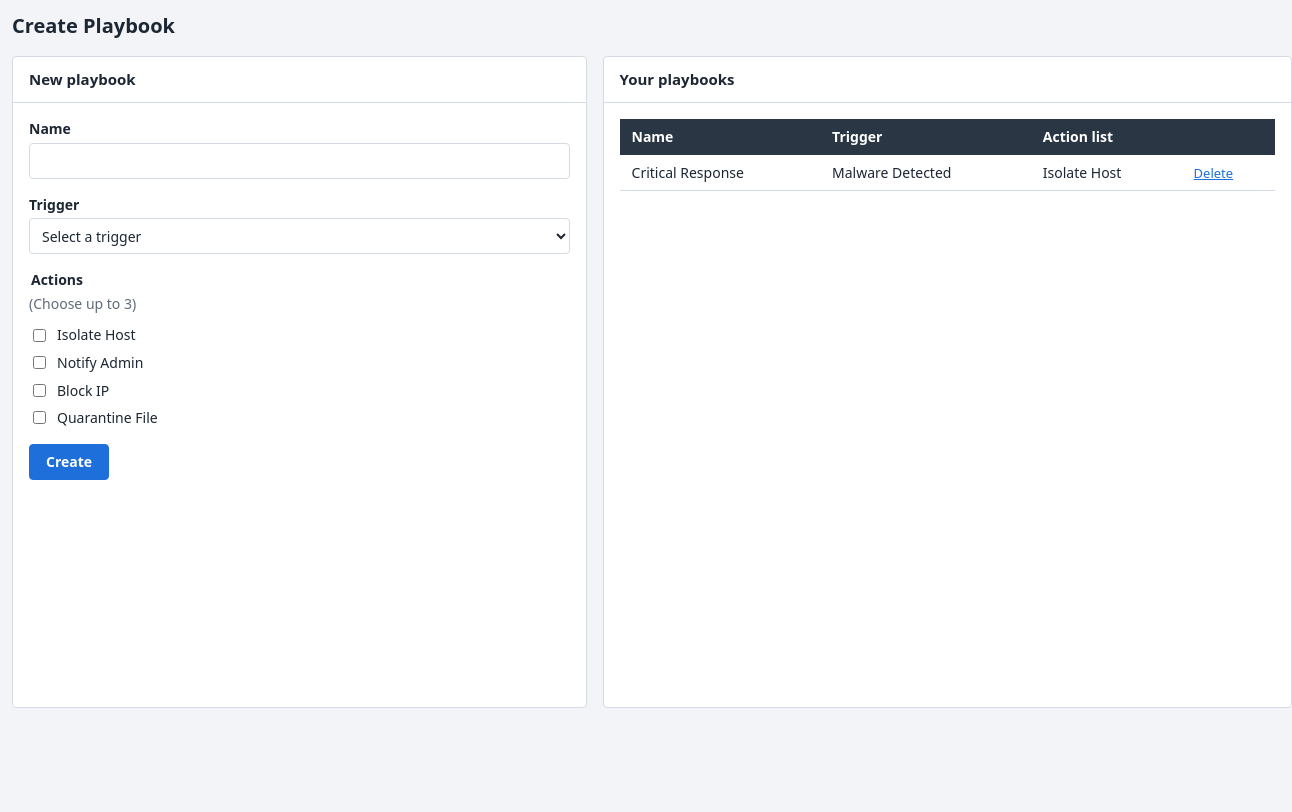
Test: CreatePlaybookPage › requires at least one action
Expected: the checkbox labelled "Isolate Host" is shown, [33, 329, 46, 342]
Type "Contain" into the field labelled "Name" at [299, 161], box [29, 143, 570, 179]
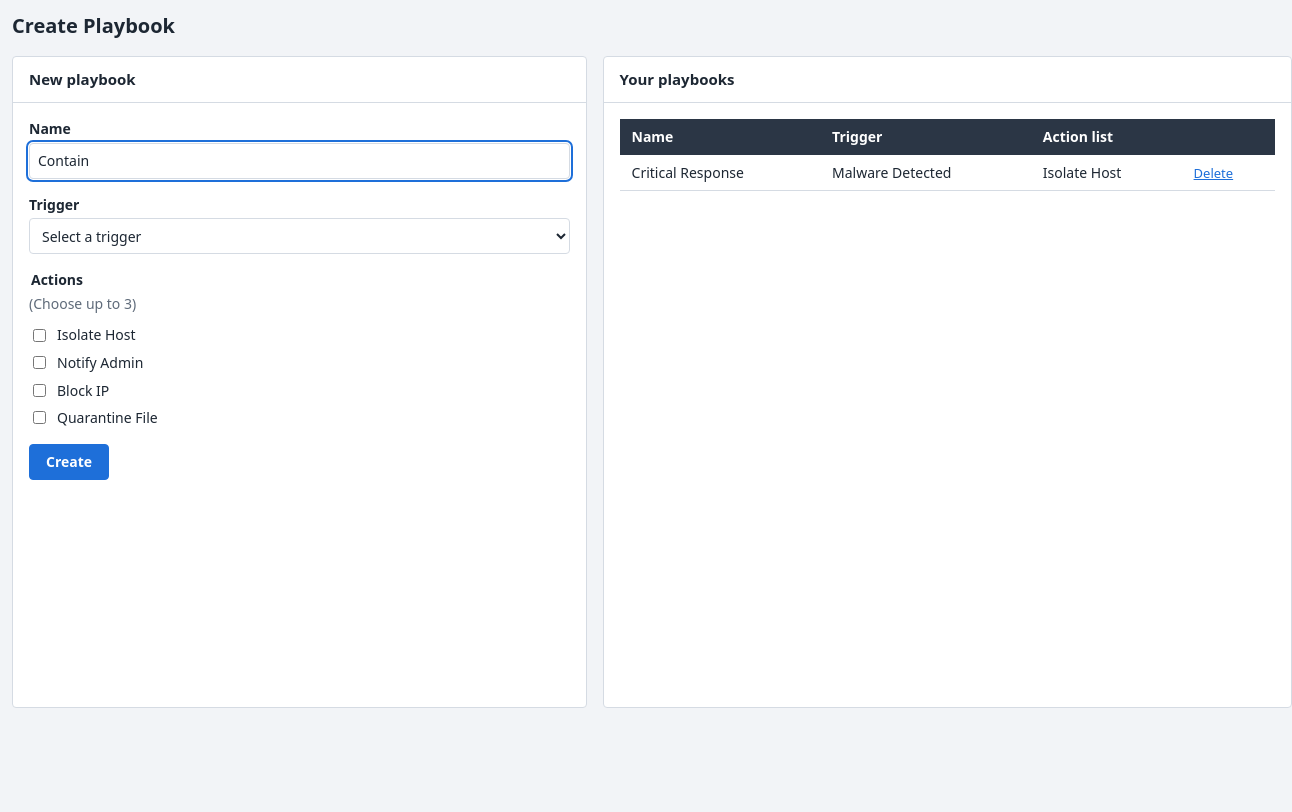
Select "Malware Detected" in the dropdown labelled "Trigger" at [299, 236], box [29, 218, 570, 254]
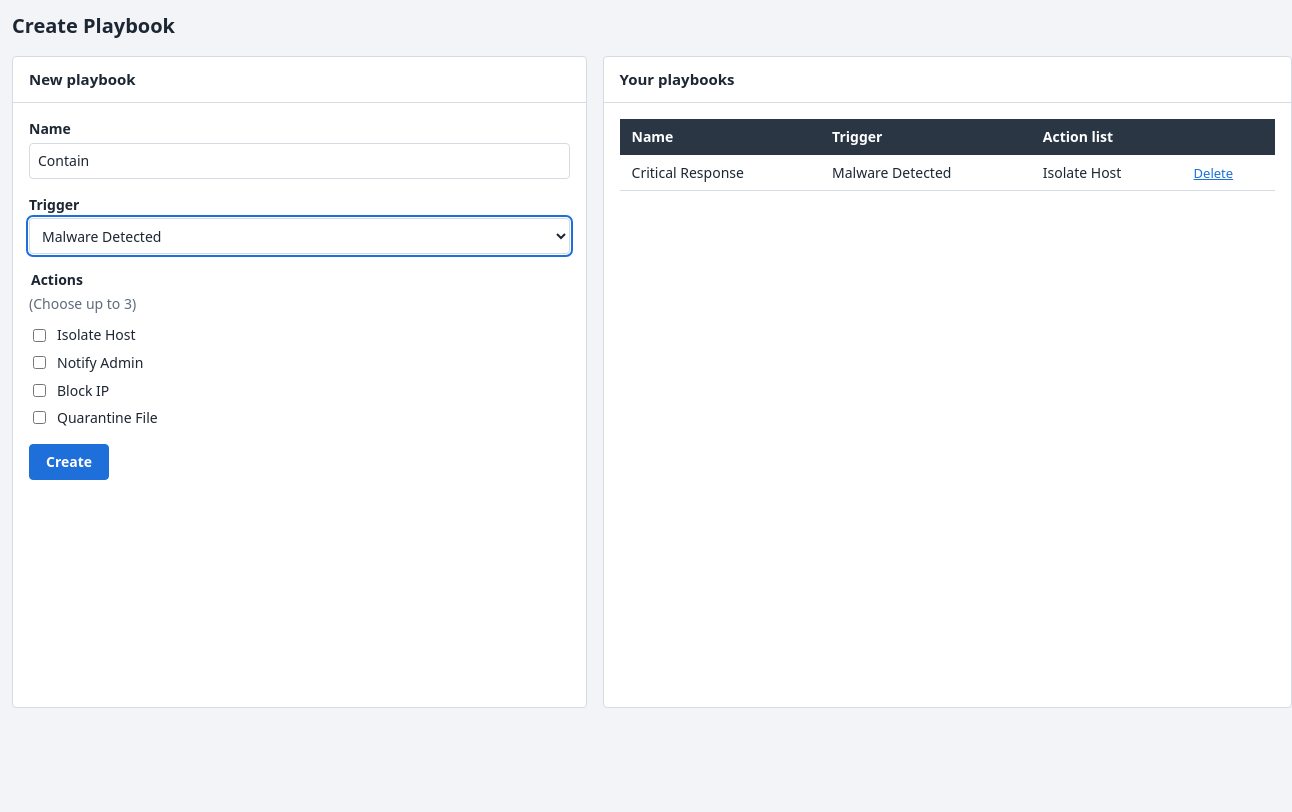
Click the button "Create" at [69, 462], box [29, 444, 109, 480]
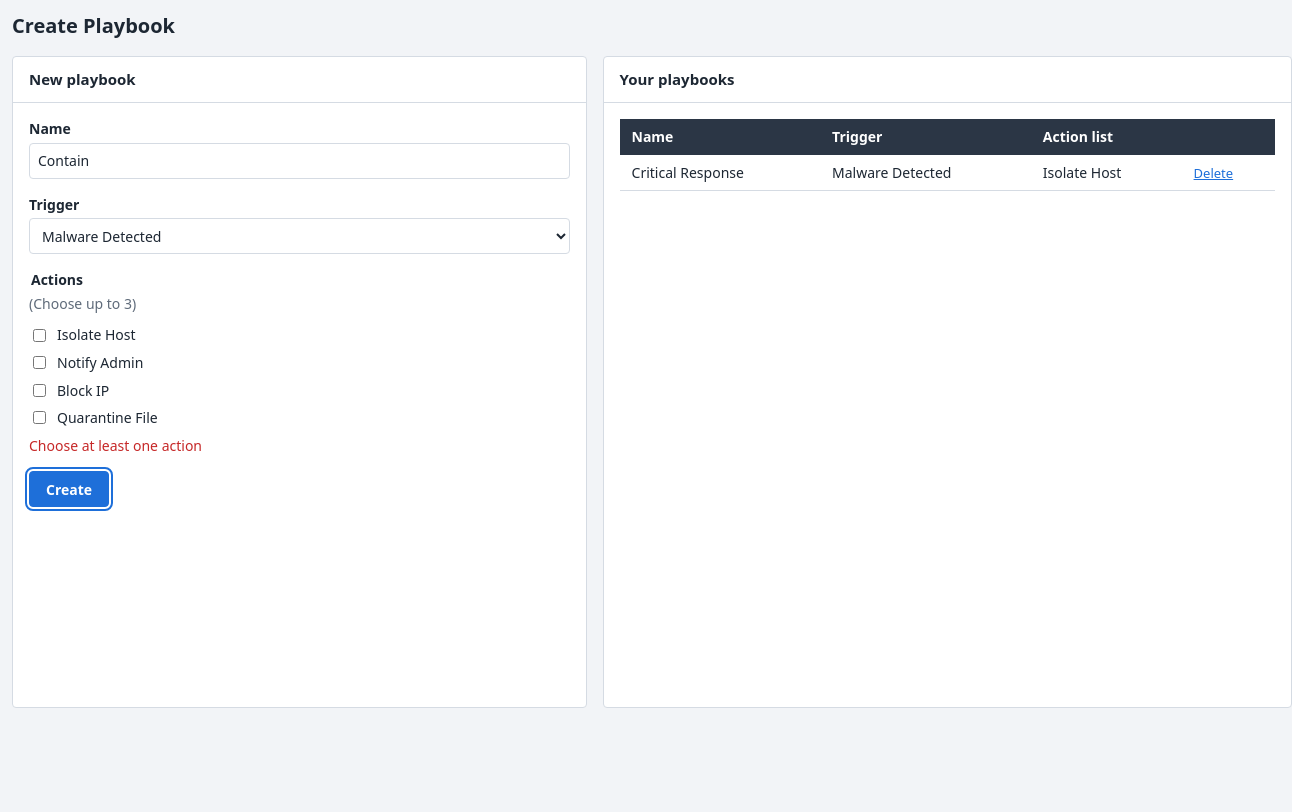
Expected: the text "Choose at least one action" is shown, [29, 436, 202, 455]
